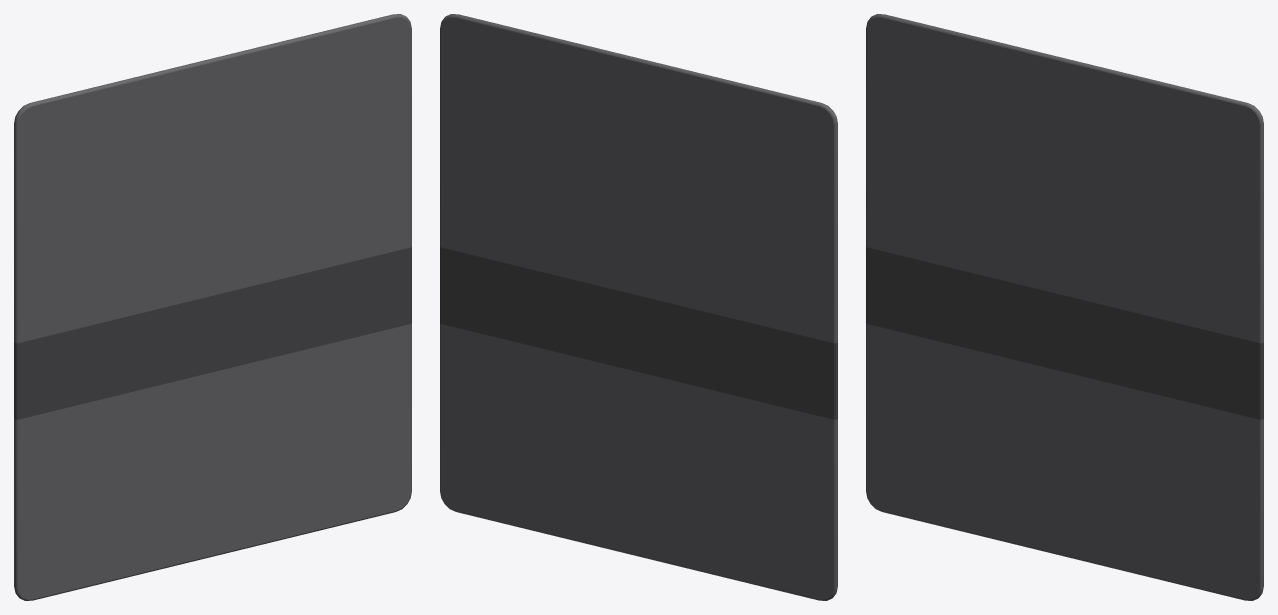
The model's file is menu_title_bg.glb.
The picture shows the model from 3 angles, left to right: view 1: azimuth 30°, elevation 25°; view 2: azimuth 150°, elevation 25°; view 3: azimuth 330°, elevation 25°; orthographic projection.
Visible parts, largest first — view 1: menu_card_bg; view 2: menu_card_bg; view 3: menu_card_bg.
Part boxes in pixels (bbox=[...]): menu_card_bg: bbox=[14, 14, 411, 600]; menu_card_bg: bbox=[440, 14, 837, 600]; menu_card_bg: bbox=[866, 14, 1263, 600].
Bounding box in the file's own units: 3 × 3.6 × 0.04.
Materials: 1 (1 with a texture image).
